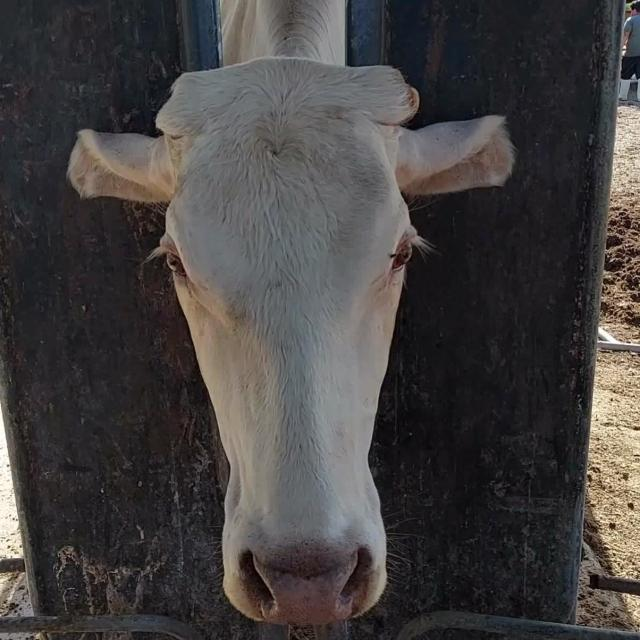cowFace: (164, 68, 414, 621)
